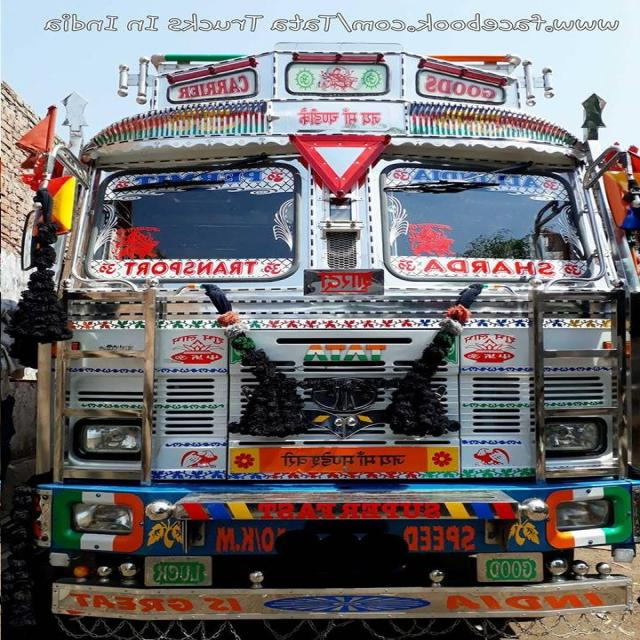truck: (39, 39, 640, 624)
